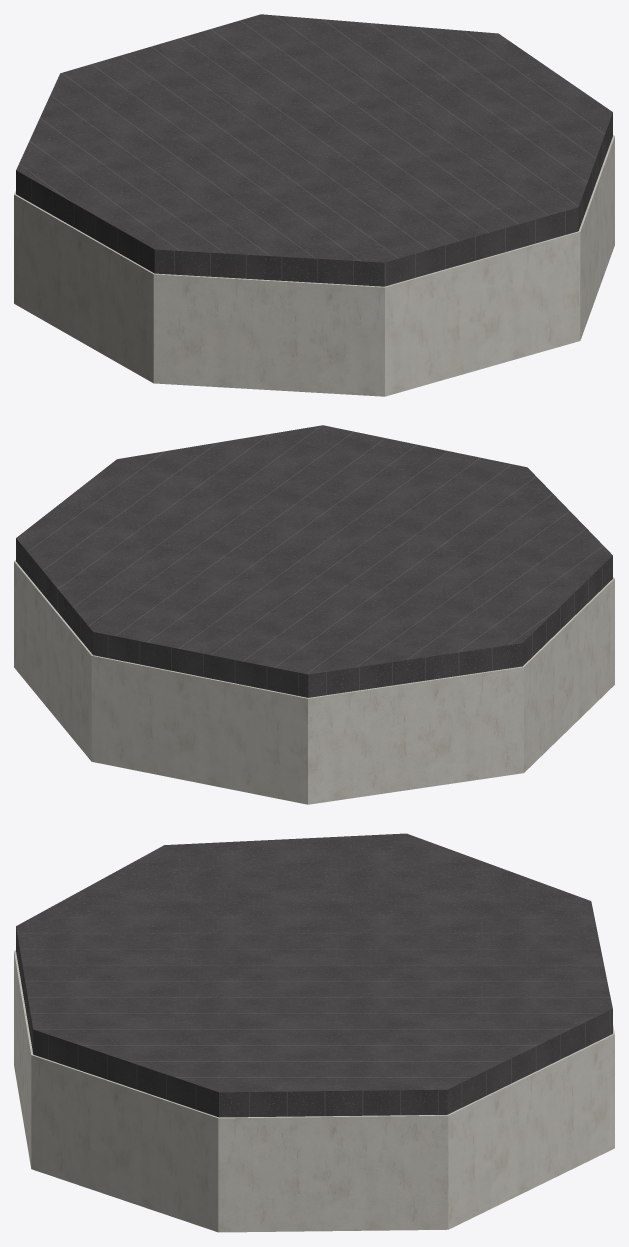
The picture shows the model from 3 angles, top to bottom: view 1: azimuth 30°, elevation 25°; view 2: azimuth 150°, elevation 25°; view 3: azimuth 270°, elevation 25°; orthographic projection. The views are drawn at different scales.
Parts seen in each view (by area): view 1: lmbase_117235287_roof, lmbase_117235287; view 2: lmbase_117235287_roof, lmbase_117235287; view 3: lmbase_117235287_roof, lmbase_117235287.
Boxes of the visible parts, bbox=[...] form: lmbase_117235287_roof: bbox=[16, 14, 612, 286]; lmbase_117235287: bbox=[14, 135, 614, 396]; lmbase_117235287_roof: bbox=[16, 425, 612, 697]; lmbase_117235287: bbox=[14, 560, 614, 804]; lmbase_117235287_roof: bbox=[16, 833, 612, 1117]; lmbase_117235287: bbox=[14, 950, 614, 1232].
Bounding box in the file's own units: 12.24 × 3.05 × 11.93.
2 materials, 2 textured.
